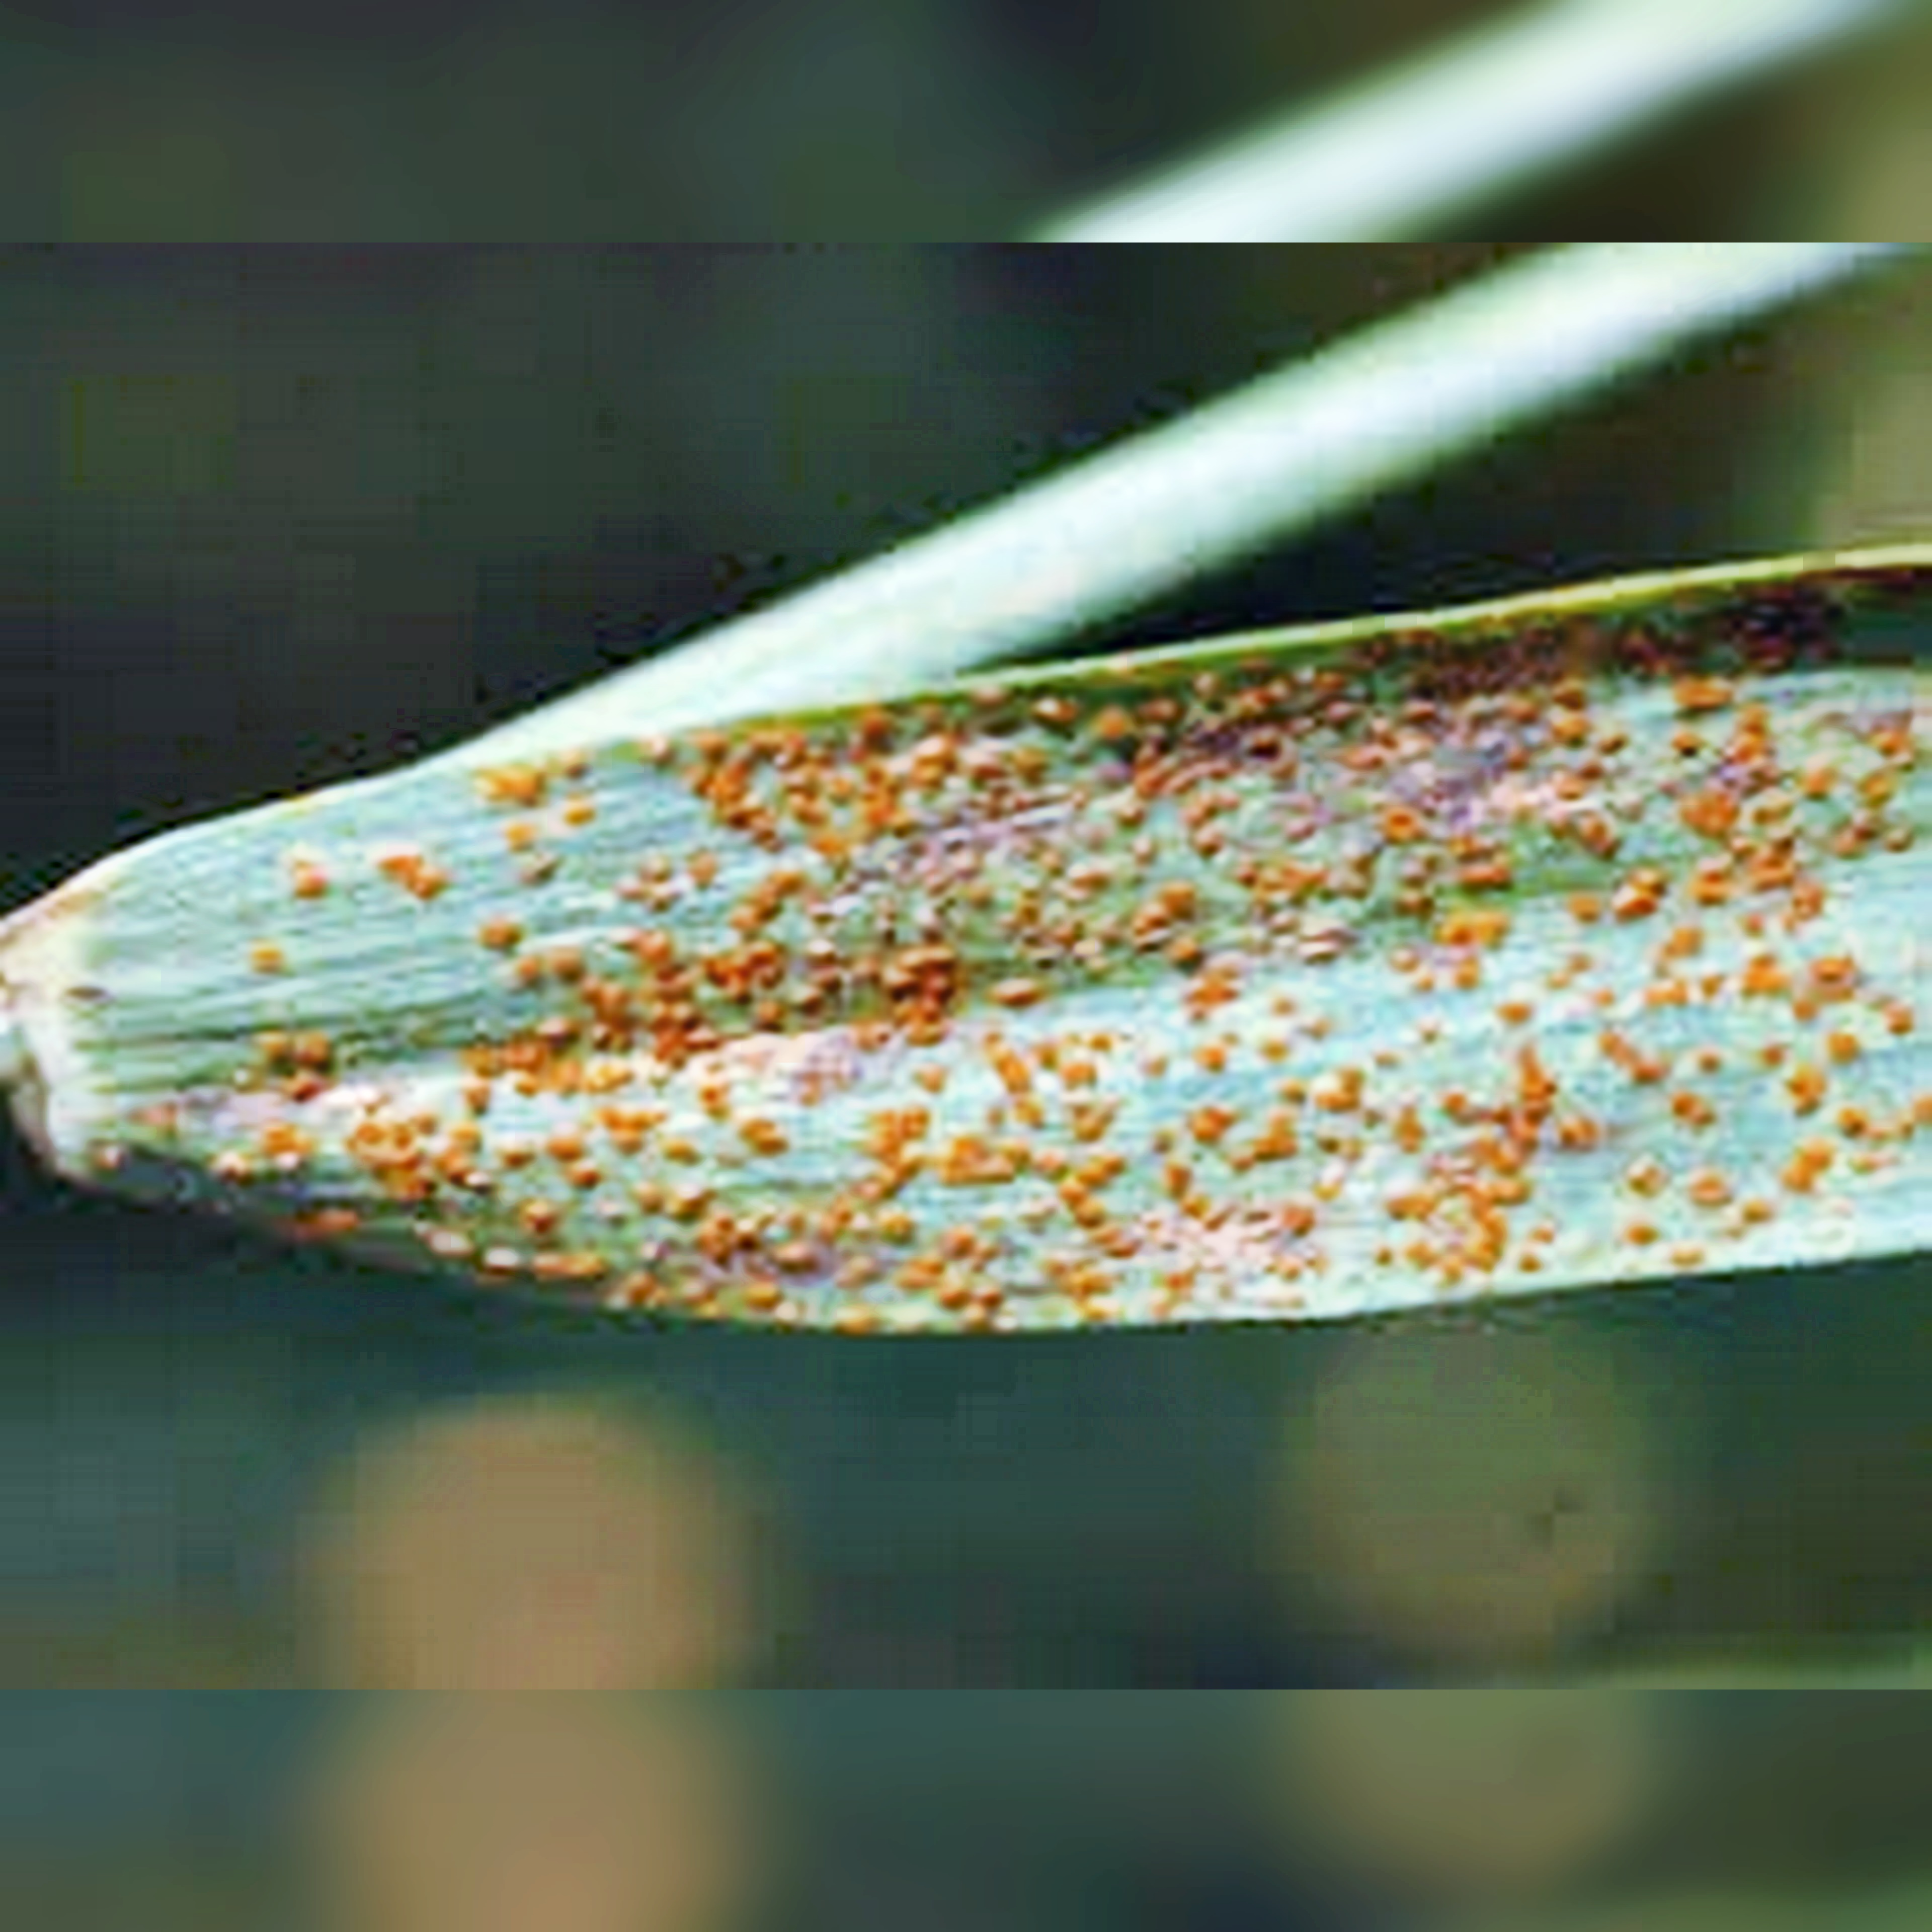Leaf Rust: (288, 540, 1859, 1352)
